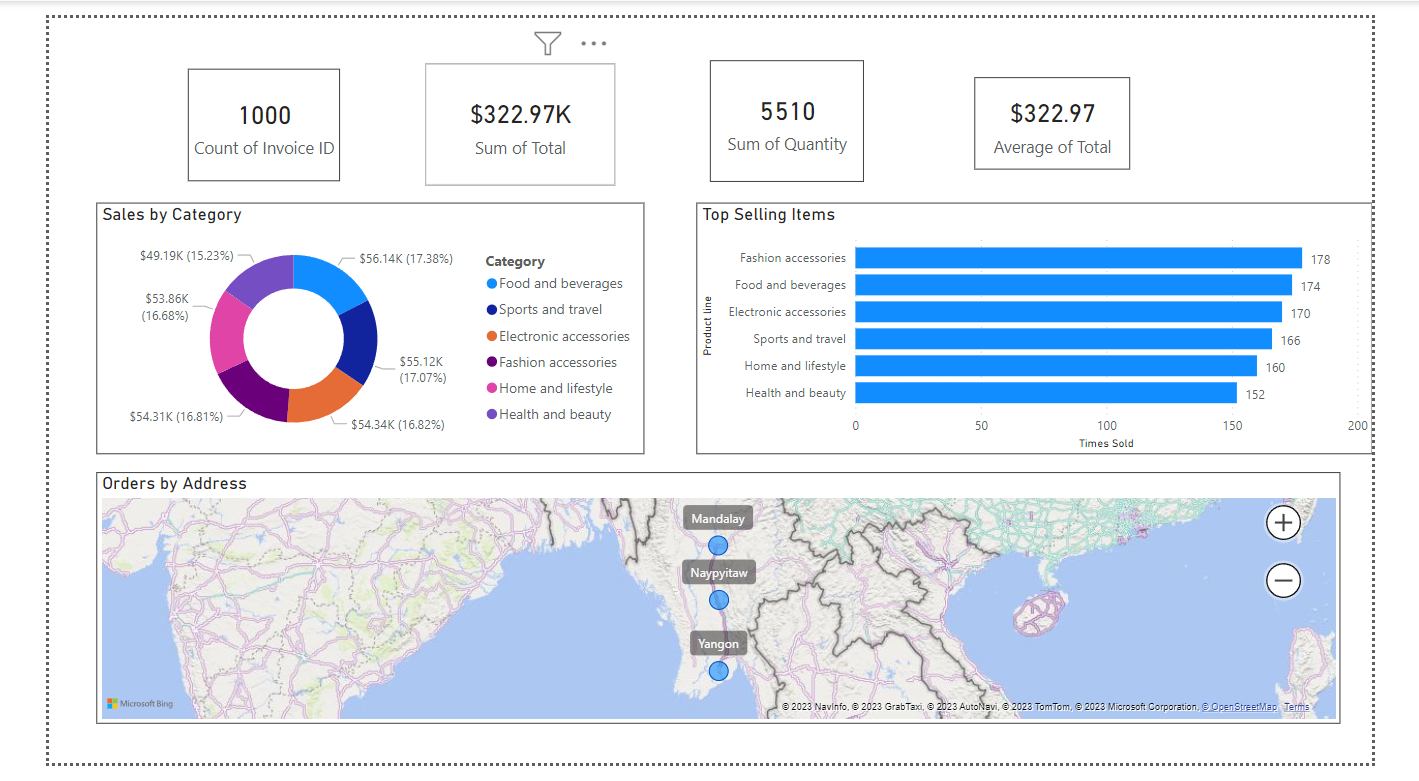

The page's visual inventory and layout, read from the dashboard file:
{"tool":"powerbi","page":{"name":"Page 1","canvas":[1280,720],"ordinal":0},"visuals":[{"type":"card","fields":{"Values":["Count(WalmartSalesData.Invoice ID)"]},"box":[134.6,49,146.9,108.4],"z":0},{"type":"card","fields":{"Values":["Sum(WalmartSalesData.Total)"]},"box":[363.6,43.7,183.6,117.1],"z":1000},{"type":"card","fields":{"Values":["Sum(WalmartSalesData.Quantity)"]},"box":[639.9,40.2,148.6,117.1],"z":2000},{"type":"card","fields":{"Values":["Avg(WalmartSalesData.Total)"]},"box":[895.1,57.7,150.4,89.2],"z":3000},{"type":"donutChart","title":"Sales by Category","fields":{"Category":["WalmartSalesData.Product line"],"Y":["Sum(WalmartSalesData.Total)"]},"box":[45.5,178.3,529.7,243],"z":4000},{"type":"barChart","title":"Top Selling Items","fields":{"Category":["WalmartSalesData.Product line"],"Y":["CountNonNull(WalmartSalesData.Product line)"]},"box":[625.9,178.3,653.8,243],"z":5000},{"type":"map","title":"Orders by Address","fields":{"Category":["WalmartSalesData.City"]},"box":[45.5,438.8,1202.8,243],"z":6000}]}

Visuals, with their boxes in screenshot pixels (x1, y1, x2, y2), scaled from the page's 1280x720 canvas onto the 1419x781 screenshot:
card - Count(WalmartSalesData.Invoice ID): x1=149 y1=53 x2=312 y2=171
card - Sum(WalmartSalesData.Total): x1=403 y1=47 x2=607 y2=174
card - Sum(WalmartSalesData.Quantity): x1=709 y1=44 x2=874 y2=171
card - Avg(WalmartSalesData.Total): x1=992 y1=63 x2=1159 y2=159
"Sales by Category" donutChart: x1=50 y1=193 x2=638 y2=457
"Top Selling Items" barChart: x1=694 y1=193 x2=1418 y2=457
"Orders by Address" map: x1=50 y1=476 x2=1384 y2=740
